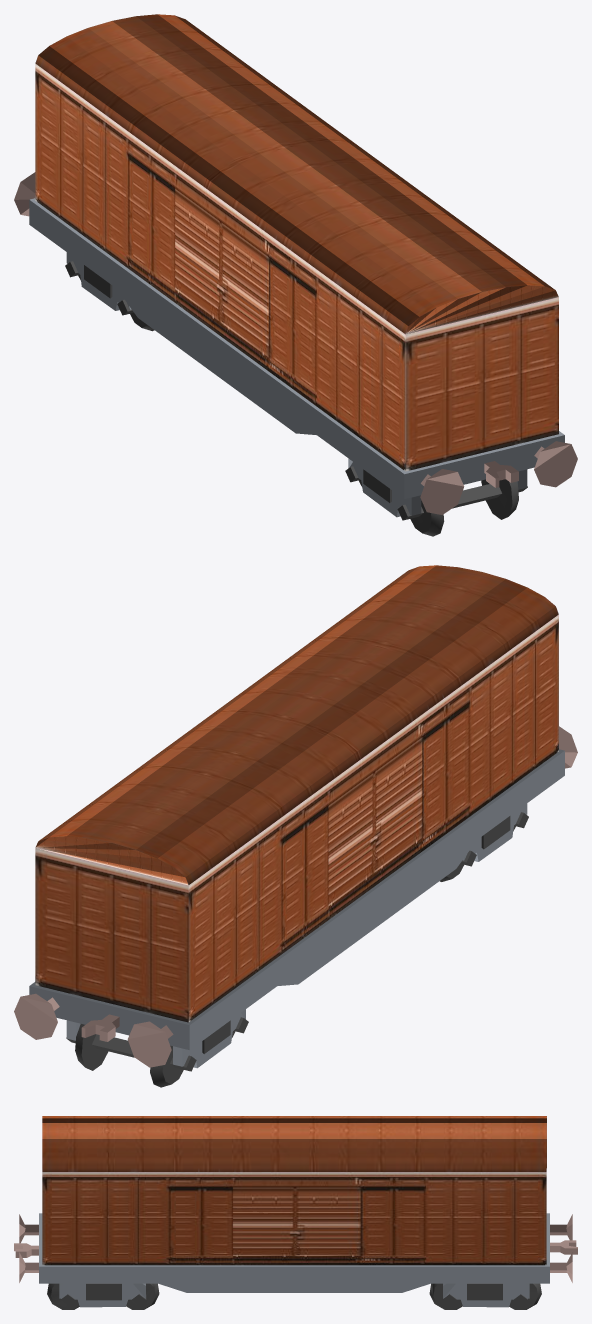
Rendered from boxcarbrown.dae.
The picture shows the model from 3 angles, top to bottom: view 1: azimuth 30°, elevation 25°; view 2: azimuth 150°, elevation 25°; view 3: azimuth 270°, elevation 25°; orthographic projection. The views are drawn at different scales.
Parts seen in each view (by area): view 1: 9.0.242.0_Pts_Material_Surf, 9.0.242.0_Pts_Material__4__Surf, 9.0.242.0_Pts_Material__2__Surf, 9.0.242.0_Pts_Material__3__Surf; view 2: 9.0.242.0_Pts_Material_Surf, 9.0.242.0_Pts_Material__4__Surf, 9.0.242.0_Pts_Material__2__Surf, 9.0.242.0_Pts_Material__3__Surf; view 3: 9.0.242.0_Pts_Material_Surf, 9.0.242.0_Pts_Material__4__Surf, 9.0.242.0_Pts_Material__3__Surf, 9.0.242.0_Pts_Material__2__Surf.
Boxes of the visible parts, x1,y1,x2,y2 form: 9.0.242.0_Pts_Material_Surf: (35, 14, 558, 471); 9.0.242.0_Pts_Material__4__Surf: (29, 198, 564, 517); 9.0.242.0_Pts_Material__2__Surf: (14, 172, 577, 514); 9.0.242.0_Pts_Material__3__Surf: (65, 261, 527, 536); 9.0.242.0_Pts_Material_Surf: (35, 565, 558, 1022); 9.0.242.0_Pts_Material__4__Surf: (29, 749, 564, 1068); 9.0.242.0_Pts_Material__2__Surf: (14, 726, 577, 1067); 9.0.242.0_Pts_Material__3__Surf: (66, 812, 528, 1087); 9.0.242.0_Pts_Material_Surf: (42, 1116, 546, 1265); 9.0.242.0_Pts_Material__4__Surf: (39, 1213, 549, 1307); 9.0.242.0_Pts_Material__3__Surf: (47, 1283, 541, 1309); 9.0.242.0_Pts_Material__2__Surf: (14, 1214, 577, 1282).
Bounding box in the file's own units: 3.21 × 4.72 × 14.32.
